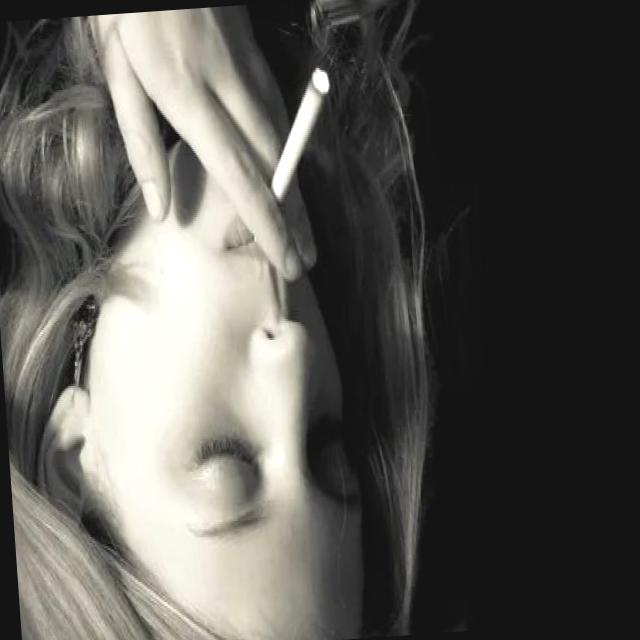cigarette: (252, 54, 344, 228)
